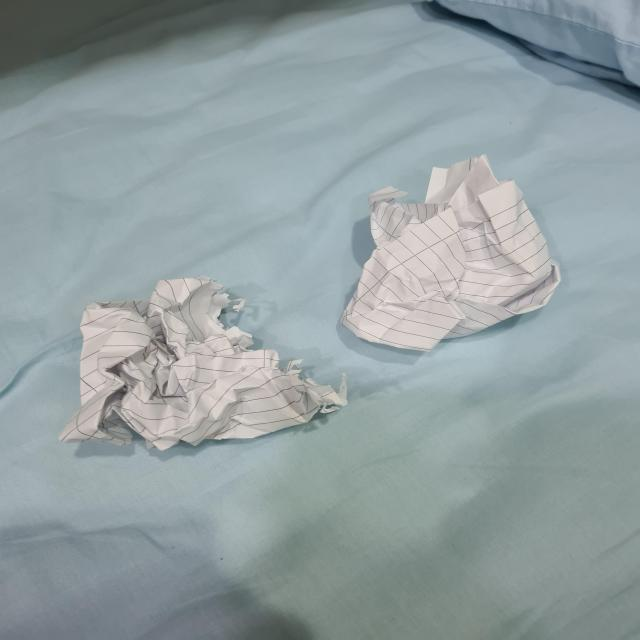Paper: (290, 123, 591, 369), (31, 278, 364, 464)
